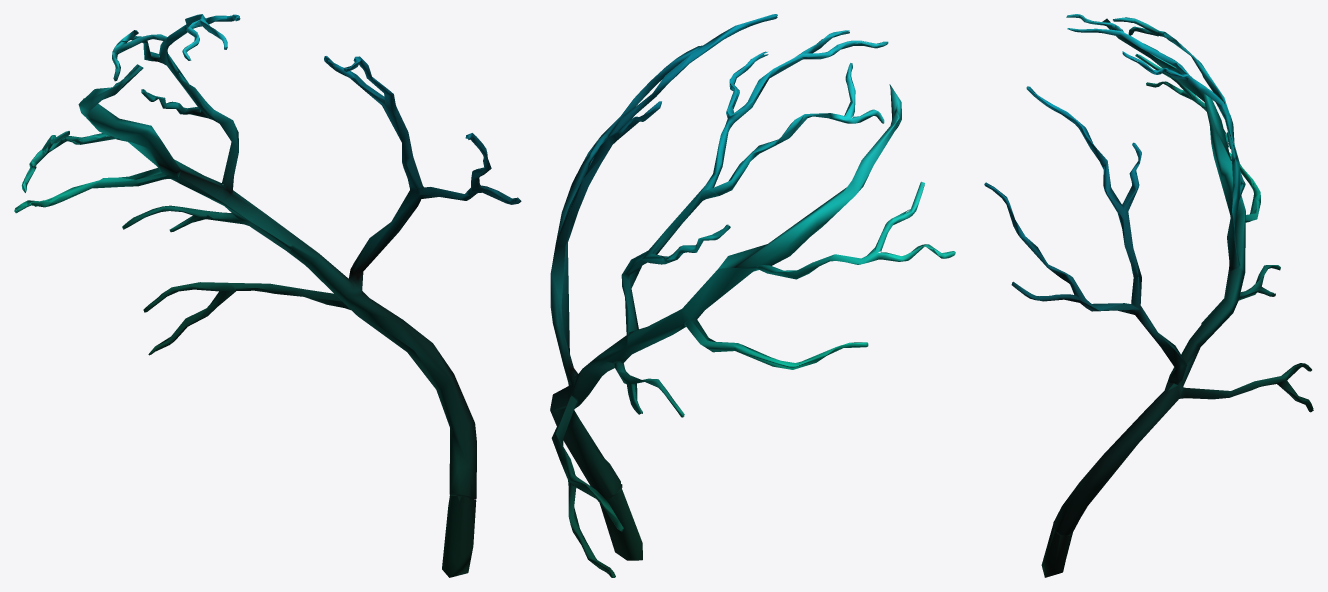
Rendered from zeometry-organic-forms-branching-vein_v1.fbx.
3 renders of one model, left to right at view 1: azimuth 30°, elevation 25°; view 2: azimuth 150°, elevation 25°; view 3: azimuth 270°, elevation 25°, orthographic. The views are drawn at different scales.
Visible parts, largest first — view 1: Branching Vein_v1; view 2: Branching Vein_v1; view 3: Branching Vein_v1.
Part boxes in pixels (box(x1,y1,x2,y2)): Branching Vein_v1: box(14, 14, 521, 577); Branching Vein_v1: box(550, 14, 955, 577); Branching Vein_v1: box(984, 14, 1313, 577).
Bounding box in the file's own units: 0.3831 × 0.5 × 0.3218.
